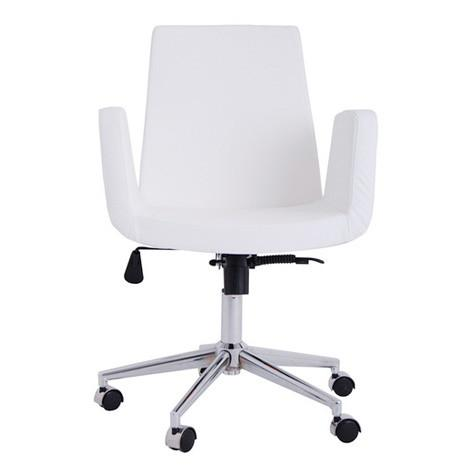chairs: (92, 24, 384, 455)
